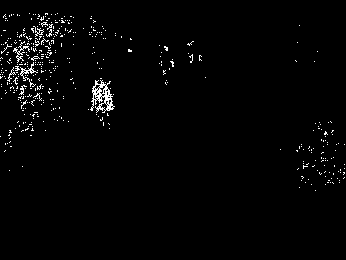person: (90, 77, 115, 131)
